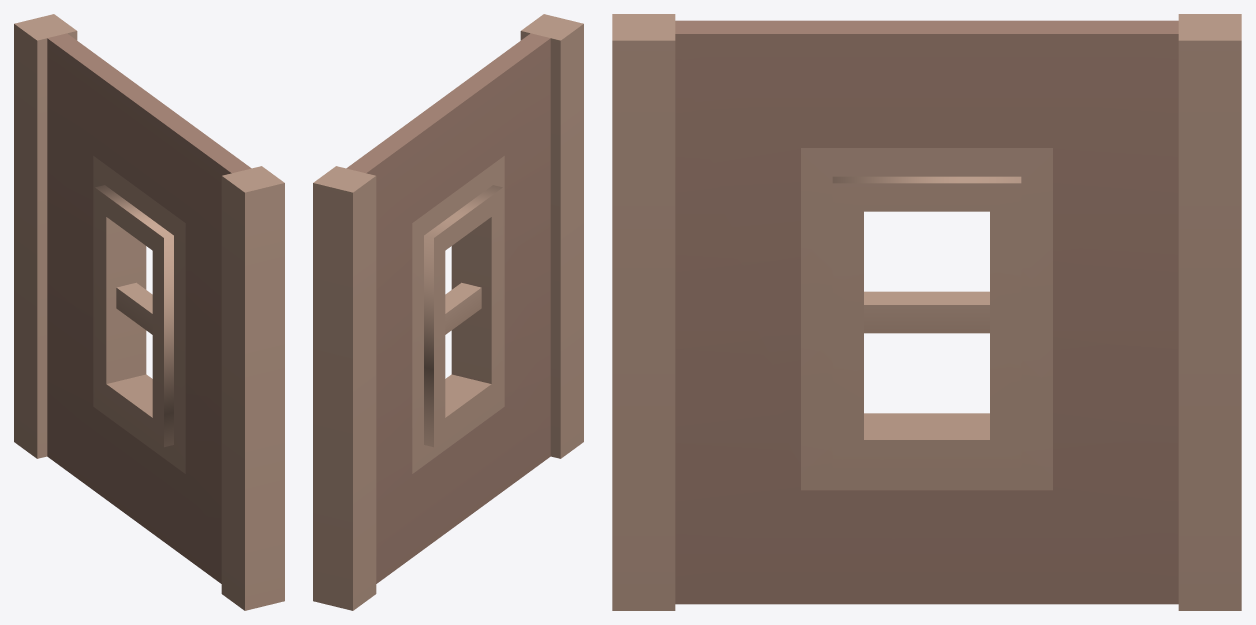
File: wall-wood-window-glass.glb
3 views of the same model, side by side, from view 1: azimuth 30°, elevation 25°; view 2: azimuth 150°, elevation 25°; view 3: azimuth 270°, elevation 25° (orthographic). The views are drawn at different scales.
Parts seen in each view (by area): view 1: wall-wood-window-glass; view 2: wall-wood-window-glass; view 3: wall-wood-window-glass.
Part boxes in pixels (bbox=[...]): wall-wood-window-glass: bbox=[14, 14, 284, 610]; wall-wood-window-glass: bbox=[313, 14, 583, 610]; wall-wood-window-glass: bbox=[612, 14, 1241, 610].
Bounding box in the file's own units: 0.1 × 1 × 1.
